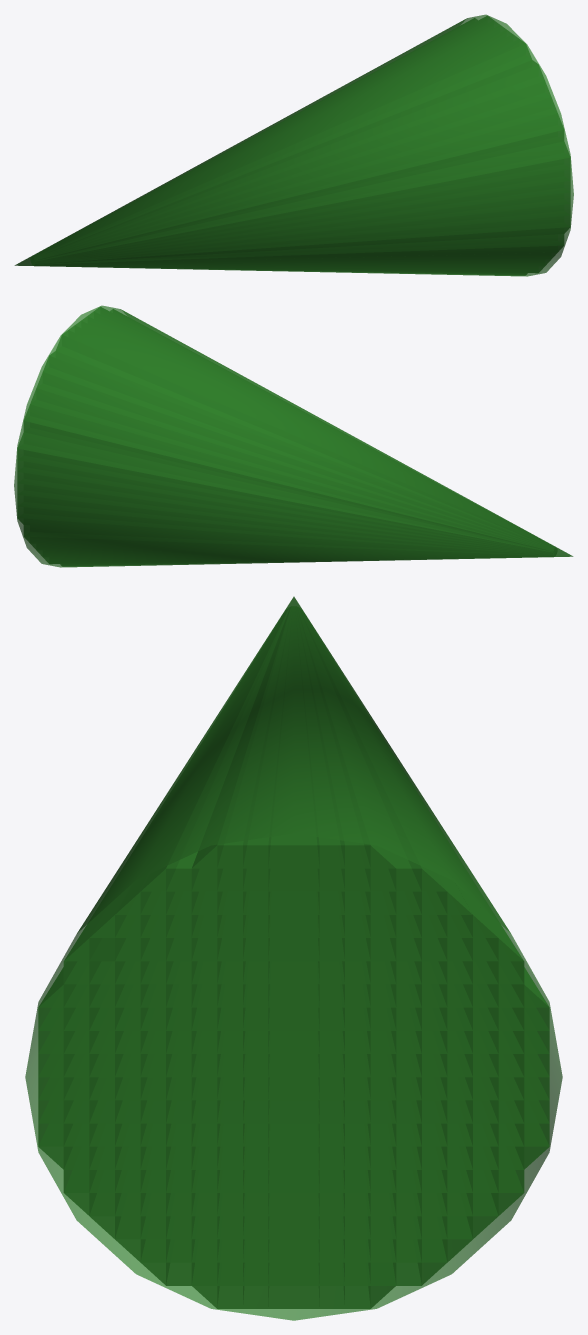
File: Cone_dense.fbx
The picture shows the model from 3 angles, top to bottom: view 1: azimuth 30°, elevation 25°; view 2: azimuth 150°, elevation 25°; view 3: azimuth 270°, elevation 25°; orthographic projection. The views are drawn at different scales.
Visible parts, largest first — view 1: RadarCone, polySurface423, polySurface424, polySurface425, polySurface422, polySurface426, polySurface427, polySurface187, polySurface204, polySurface244, polySurface208, polySurface201 (+17 smaller); view 2: RadarCone, polySurface439, polySurface168, polySurface438, polySurface431, polySurface428, polySurface429, polySurface236, polySurface228, polySurface232, polySurface406, polySurface241 (+17 smaller); view 3: RadarCone, polySurface166, polySurface179, polySurface175, polySurface165, polySurface255, polySurface256, polySurface257, polySurface258, polySurface427, polySurface429, polySurface168 (+184 smaller).
Boxes of the visible parts, x1,y1,x2,y2 form: RadarCone: (14, 14, 573, 276); polySurface423: (37, 114, 563, 259); polySurface424: (35, 97, 556, 259); polySurface425: (35, 81, 550, 258); polySurface422: (37, 142, 569, 260); polySurface426: (34, 65, 544, 258); polySurface427: (34, 44, 531, 257); polySurface187: (37, 158, 570, 261); polySurface204: (40, 169, 570, 261); polySurface244: (37, 181, 570, 262); polySurface208: (42, 204, 570, 262); polySurface201: (38, 216, 570, 263); RadarCone: (14, 305, 573, 567); polySurface439: (31, 388, 552, 550); polySurface168: (24, 405, 550, 550); polySurface438: (37, 372, 552, 549); polySurface431: (18, 433, 550, 551); polySurface428: (43, 356, 553, 549); polySurface429: (56, 335, 553, 548); polySurface236: (17, 483, 549, 553); polySurface228: (17, 495, 551, 554); polySurface232: (17, 460, 549, 552); polySurface406: (17, 507, 549, 554); polySurface241: (17, 472, 550, 553); RadarCone: (25, 596, 562, 1320); polySurface166: (166, 607, 289, 891); polySurface179: (298, 607, 421, 891); polySurface175: (296, 606, 370, 868); polySurface165: (217, 606, 291, 868); polySurface255: (295, 606, 344, 868); polySurface256: (294, 606, 319, 868); polySurface257: (268, 606, 293, 868); polySurface258: (243, 606, 292, 868); polySurface427: (192, 607, 290, 868); polySurface429: (297, 607, 395, 868); polySurface168: (305, 615, 523, 961).
Bounding box in the file's own units: 11.12 × 5.25 × 5.25.
